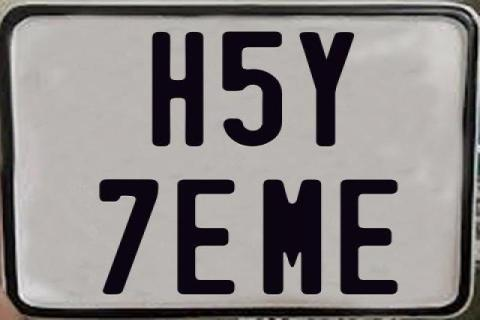0: (96, 177, 160, 297), (222, 31, 285, 149)
E: (338, 178, 398, 298), (174, 178, 233, 294)
H: (152, 31, 206, 149)
M: (264, 179, 327, 297)
Y: (296, 29, 354, 145)
